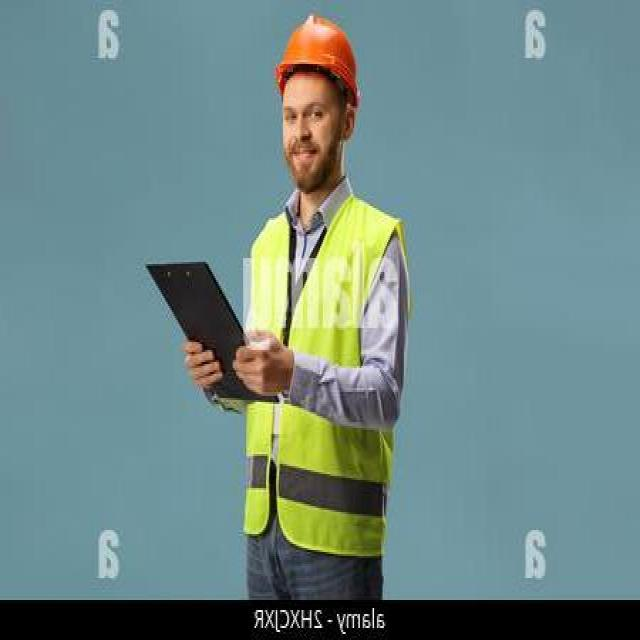Reflective-Jacket: (232, 192, 414, 564)
Safety-Helmet: (272, 8, 366, 104)
